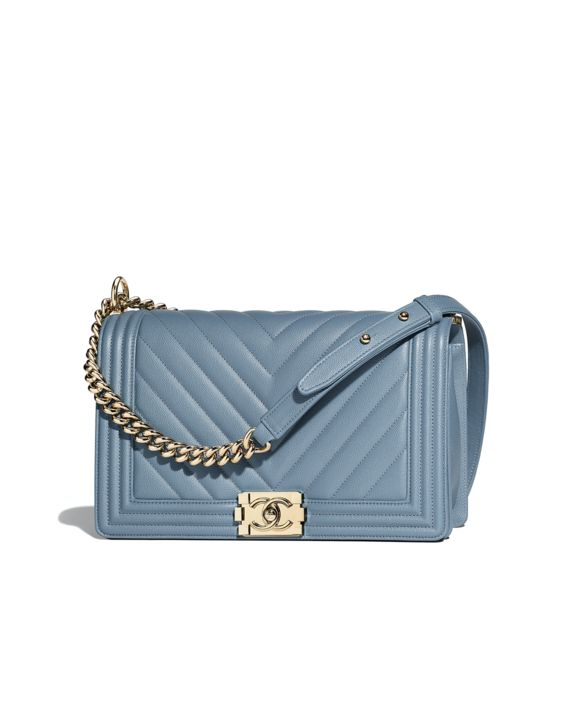channel: (58, 272, 515, 559), (81, 386, 280, 466), (227, 496, 321, 545)
